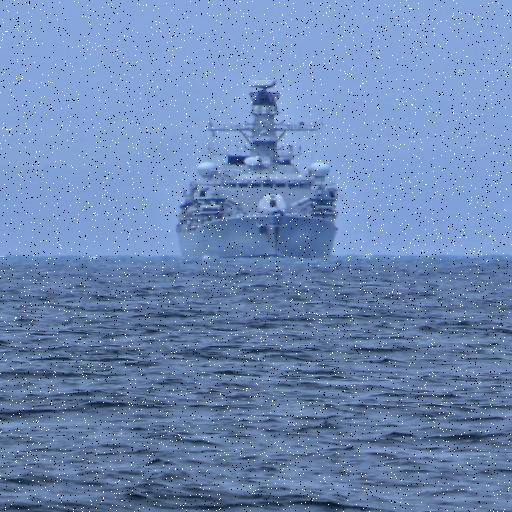Fragata: (173, 74, 358, 263)
